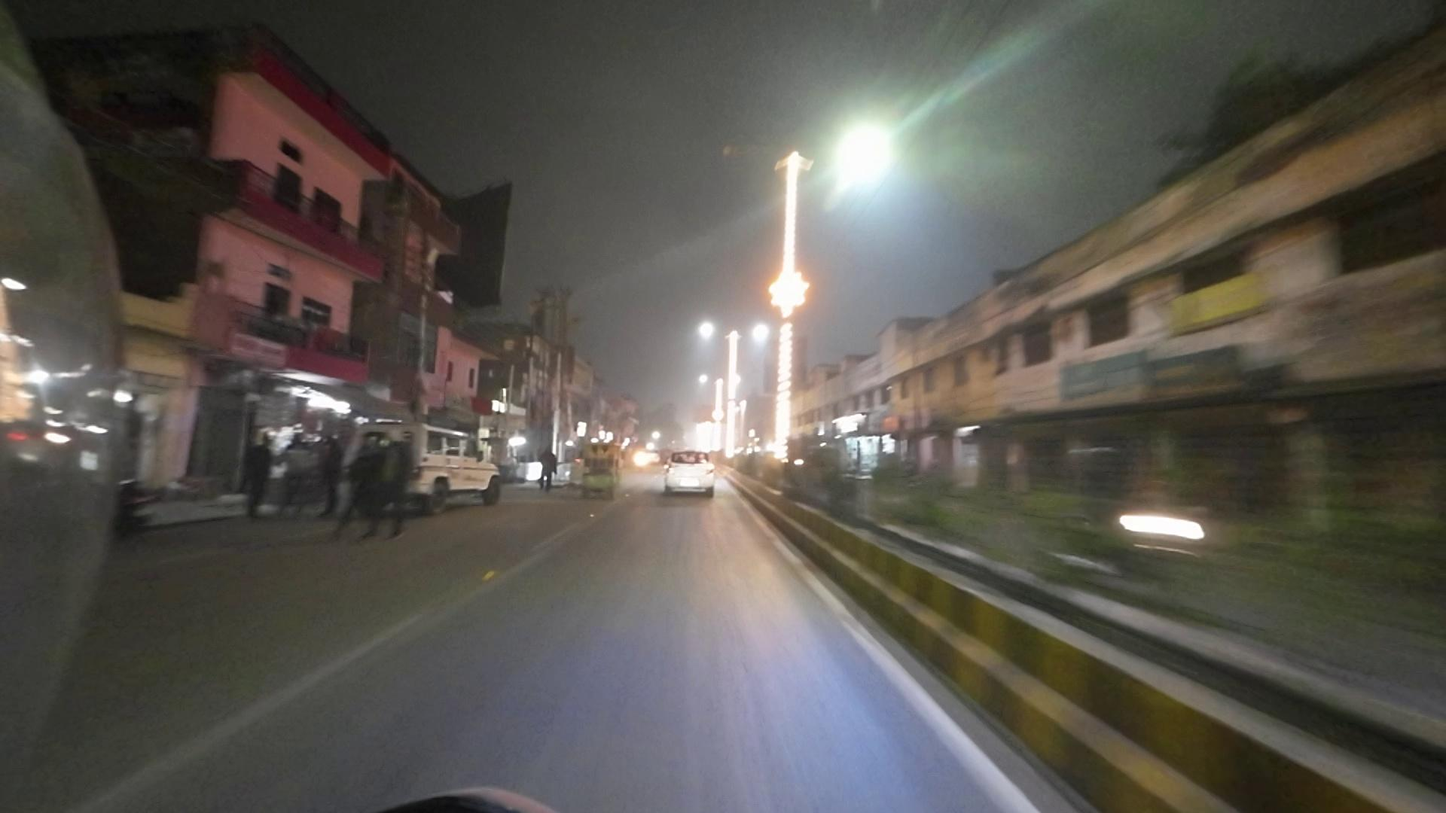streetlight: (713, 141, 784, 164)
